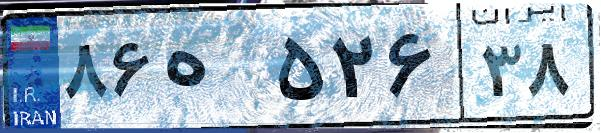2: (330, 28, 385, 110)
3: (475, 38, 525, 113)
5: (270, 28, 330, 110)
6: (385, 28, 445, 110), (110, 28, 158, 98)
8: (57, 26, 110, 100), (525, 38, 570, 115)
ه: (158, 20, 270, 120)
